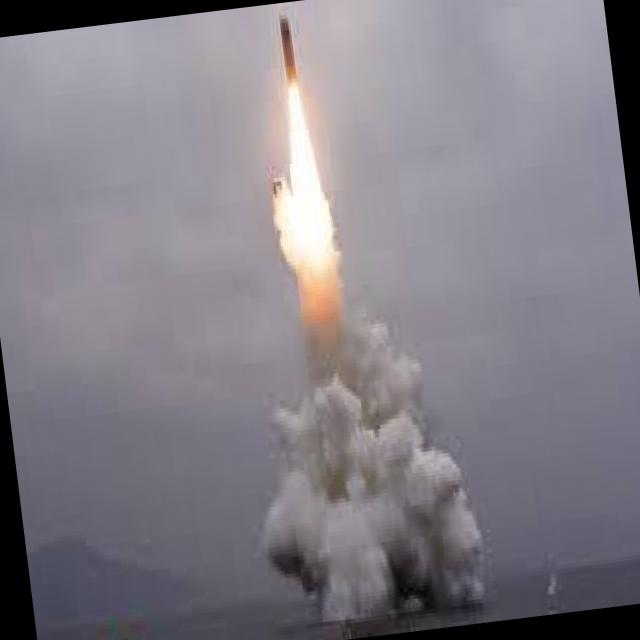rocket: (268, 5, 351, 346)
